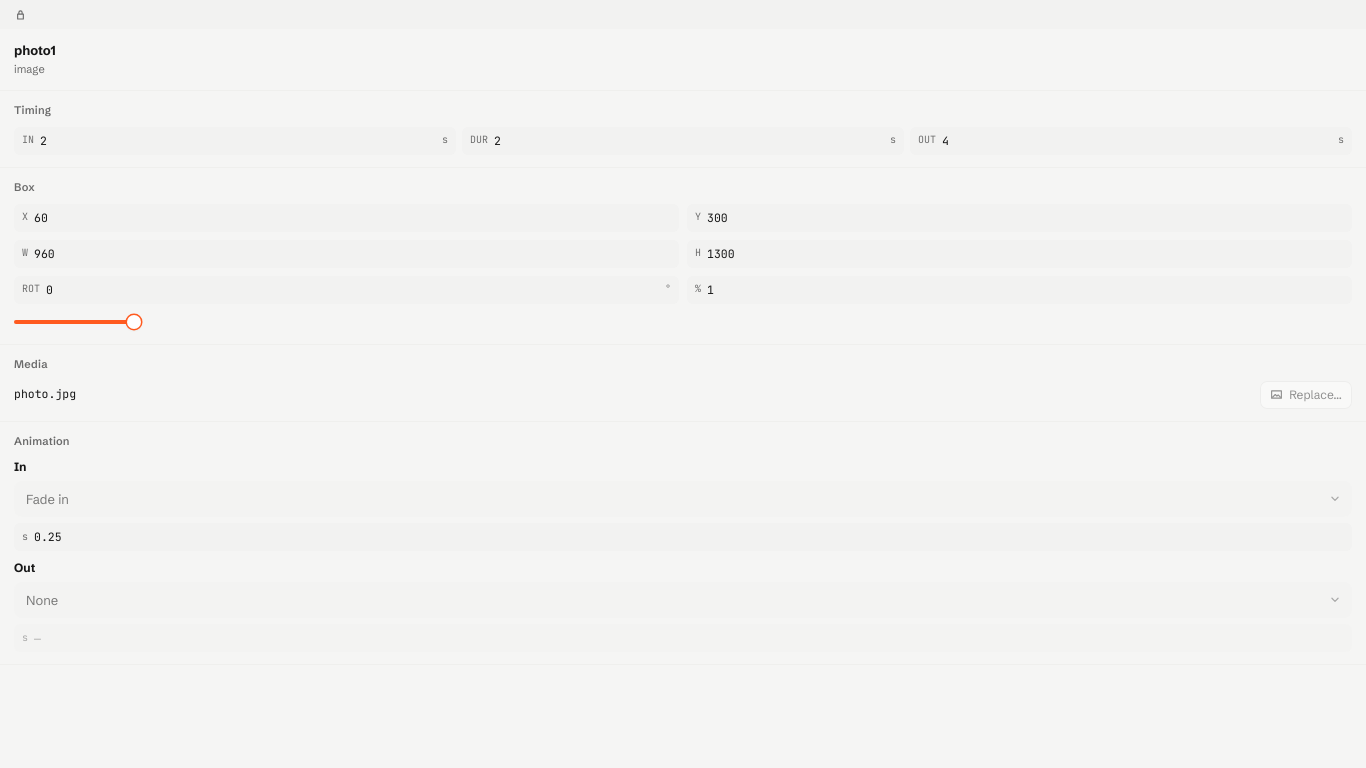
the asset picker › picking stages the file with the library request, then edits the clip source
Click the button "Replace…".
click(1306, 395)  # box [1260,381,1352,409]
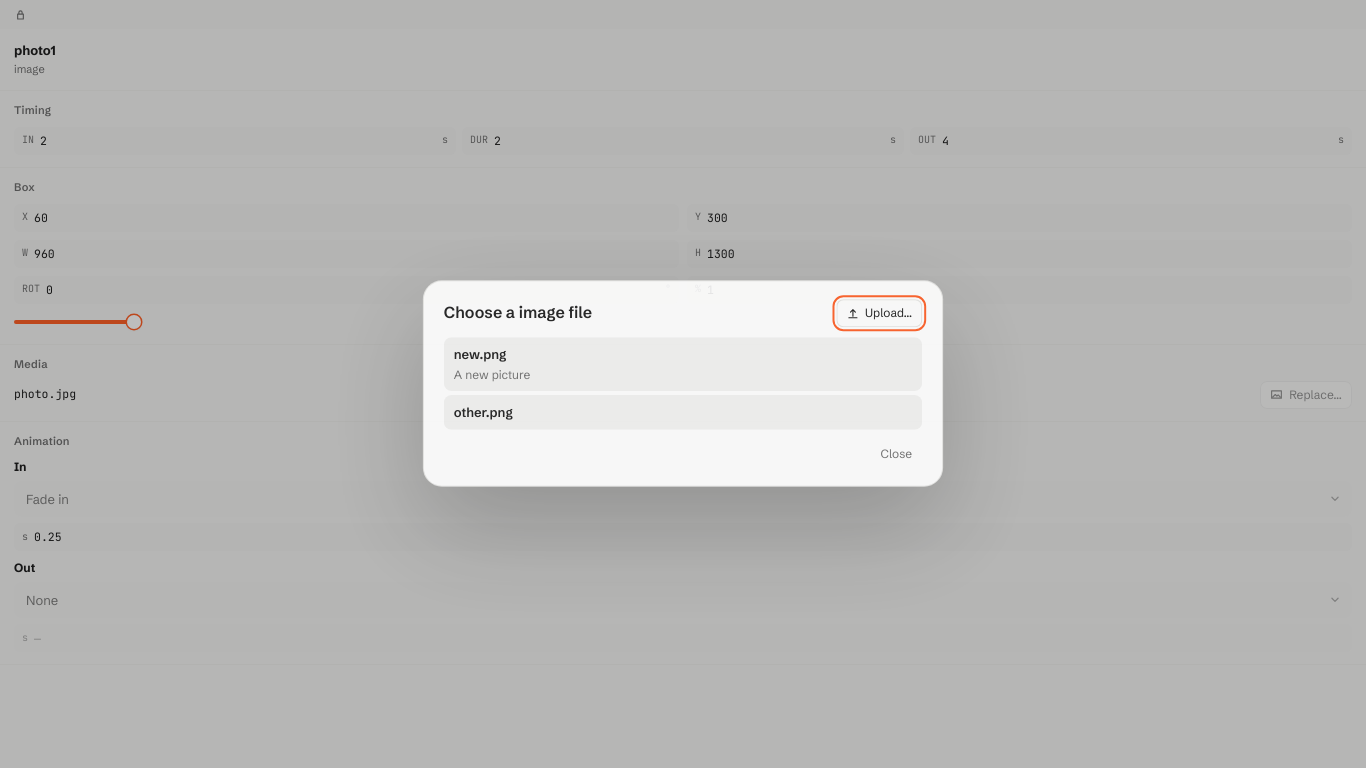
Click the button "new.png A new picture".
click(480, 354)  # box [443,338,923,392]
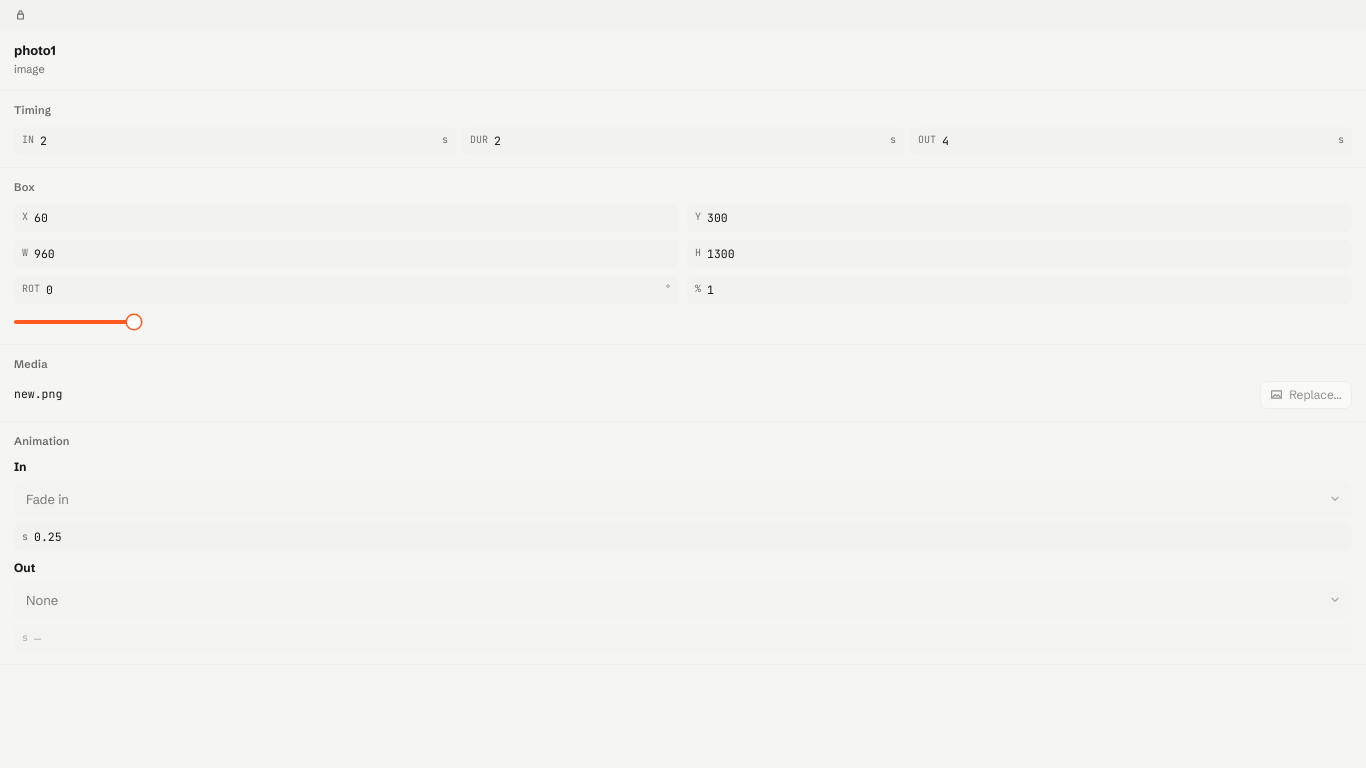
Check: the dialog is gone
